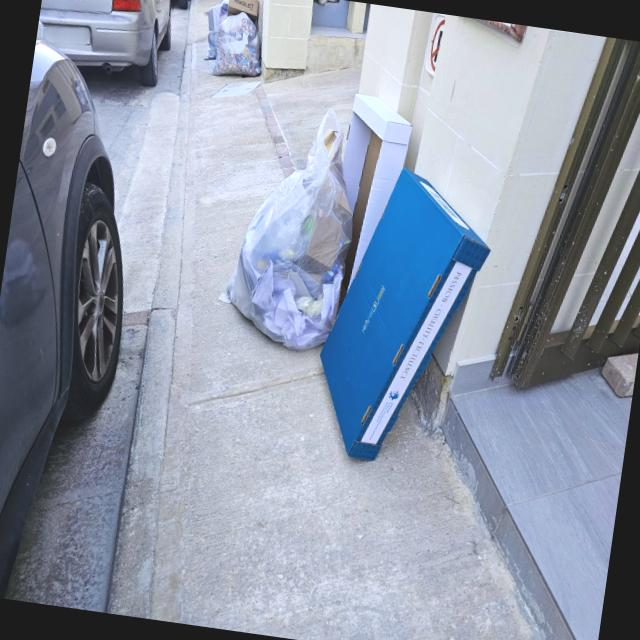grey_bag: (213, 93, 368, 355), (208, 9, 270, 84), (200, 0, 229, 64)
other_waste: (306, 156, 506, 482), (333, 87, 421, 218), (226, 0, 260, 18)
